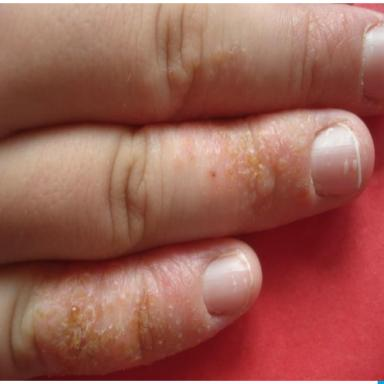eczema: (40, 275, 212, 372), (222, 123, 311, 223)
